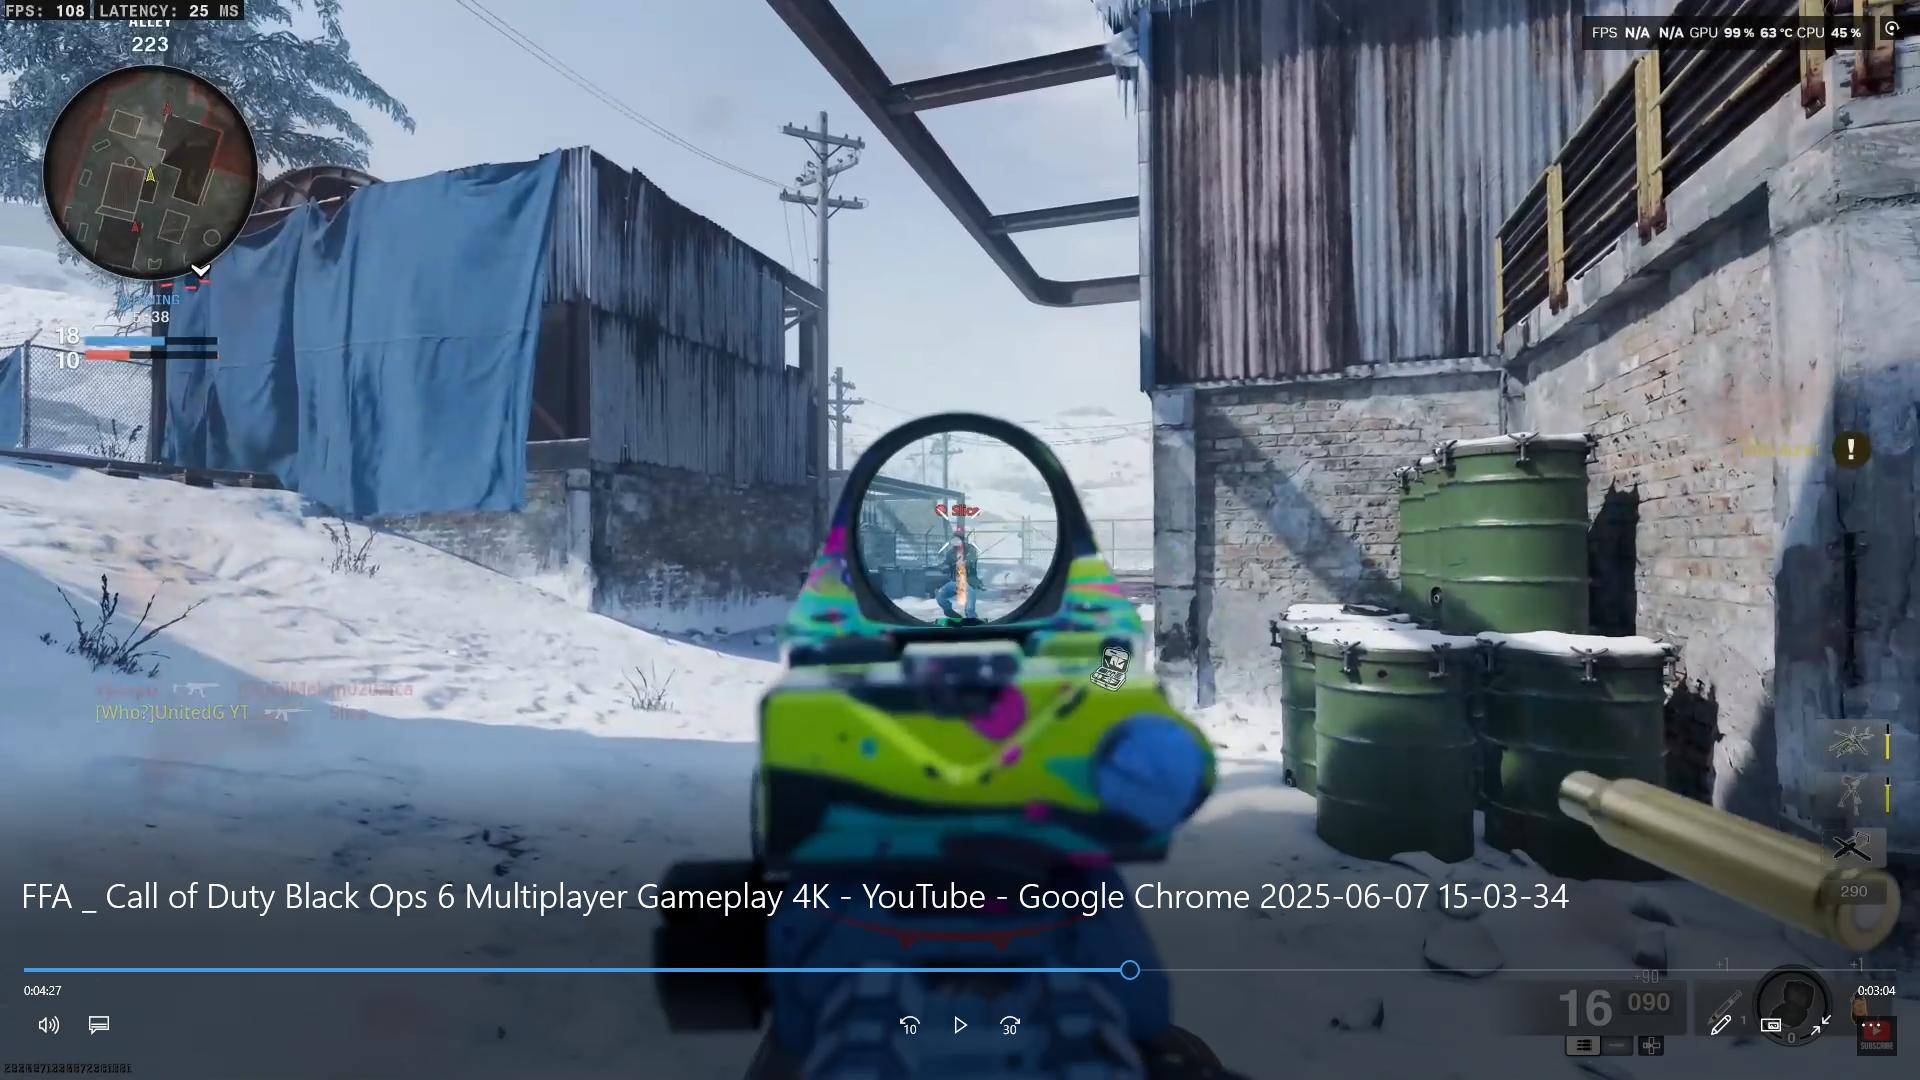Enemy: (930, 497, 989, 616)
